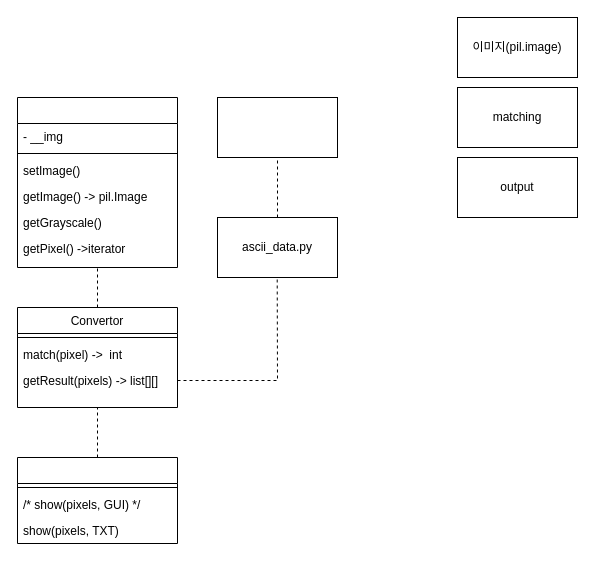
Some shapes in this 595 by 564 pixel diagram are drawn without their labels. Here are the shapes that lost their labels. From the top down, the box of each, then its label:
(216, 96, 338, 158): dataset (.json file)
(16, 96, 178, 268): PreImage
(16, 456, 178, 544): Viewer
